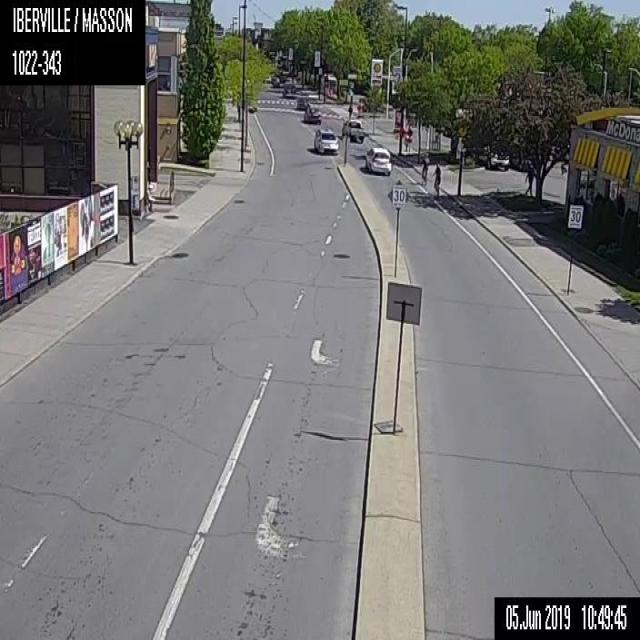construction: (403, 127, 413, 152), (356, 98, 363, 118)
cyclist: (433, 161, 441, 200), (419, 152, 429, 181)
pedestrian: (522, 163, 536, 198), (346, 102, 352, 118)
vehicle: (477, 140, 510, 171), (363, 144, 392, 173), (312, 127, 338, 154), (339, 116, 366, 141), (302, 101, 321, 124), (296, 91, 316, 109), (282, 80, 299, 100)
